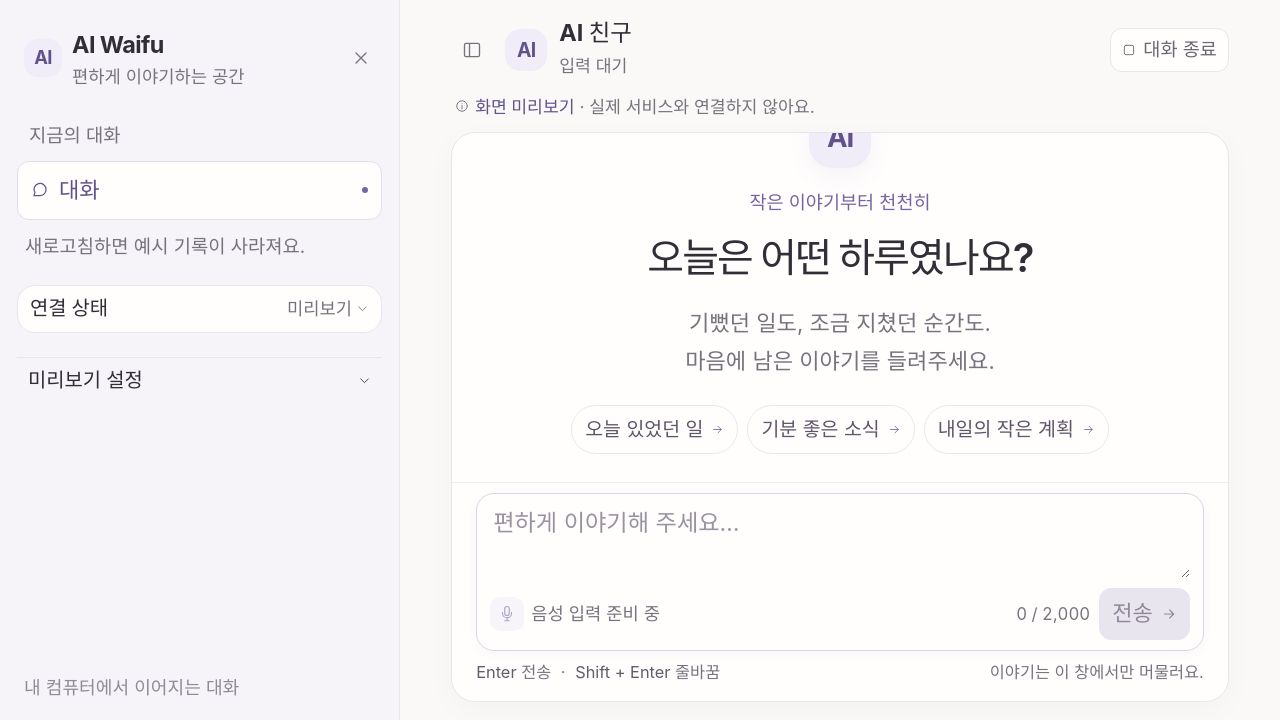
Test: single-session screen preview › allows the simulated speaking phase despite a VTS error
This screenshot has width=1280, height=720.
(page scrolled)
Click the heading "미리보기 설정" at (85, 380), box [28,368,371,392]
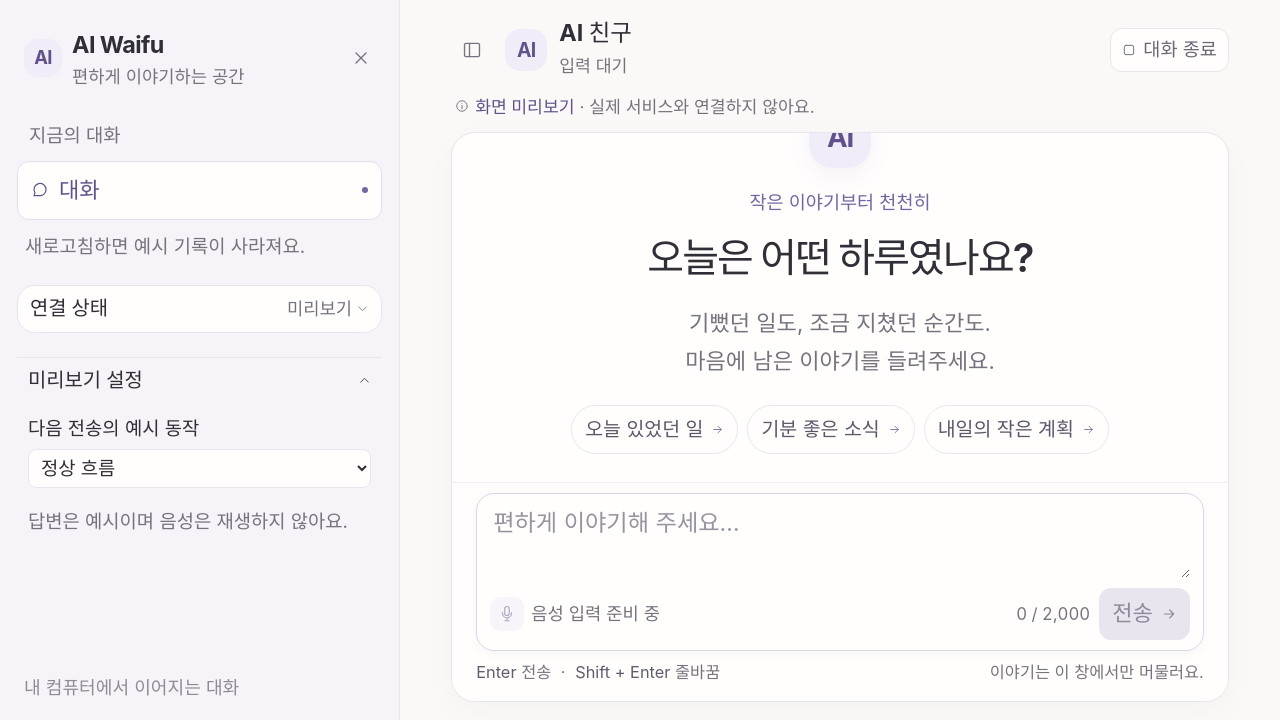
Select "캐릭터 연결 오류" in the dropdown labelled "다음 전송의 예시 동작" at (200, 468), box [28,449,371,488]
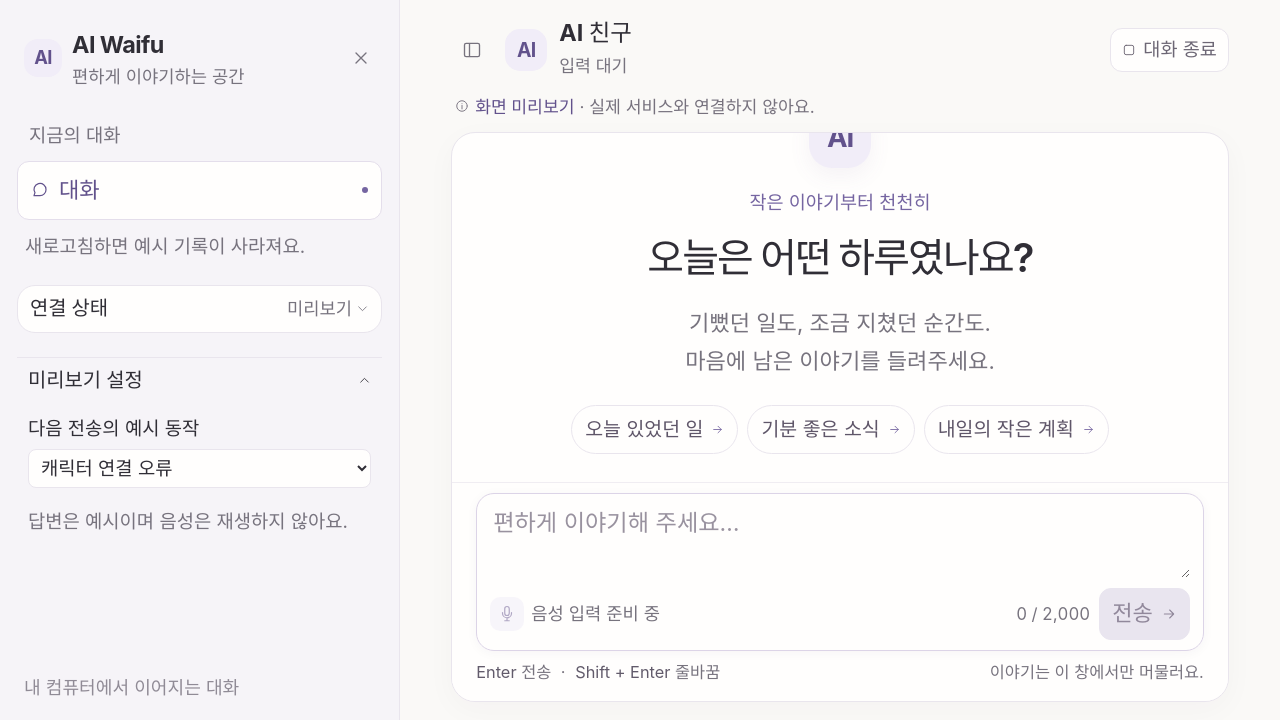
Type "오늘 학교에서 시험을 봤어." into the text box named "한국어 메시지" at (840, 542), box [490,506,1190,578]
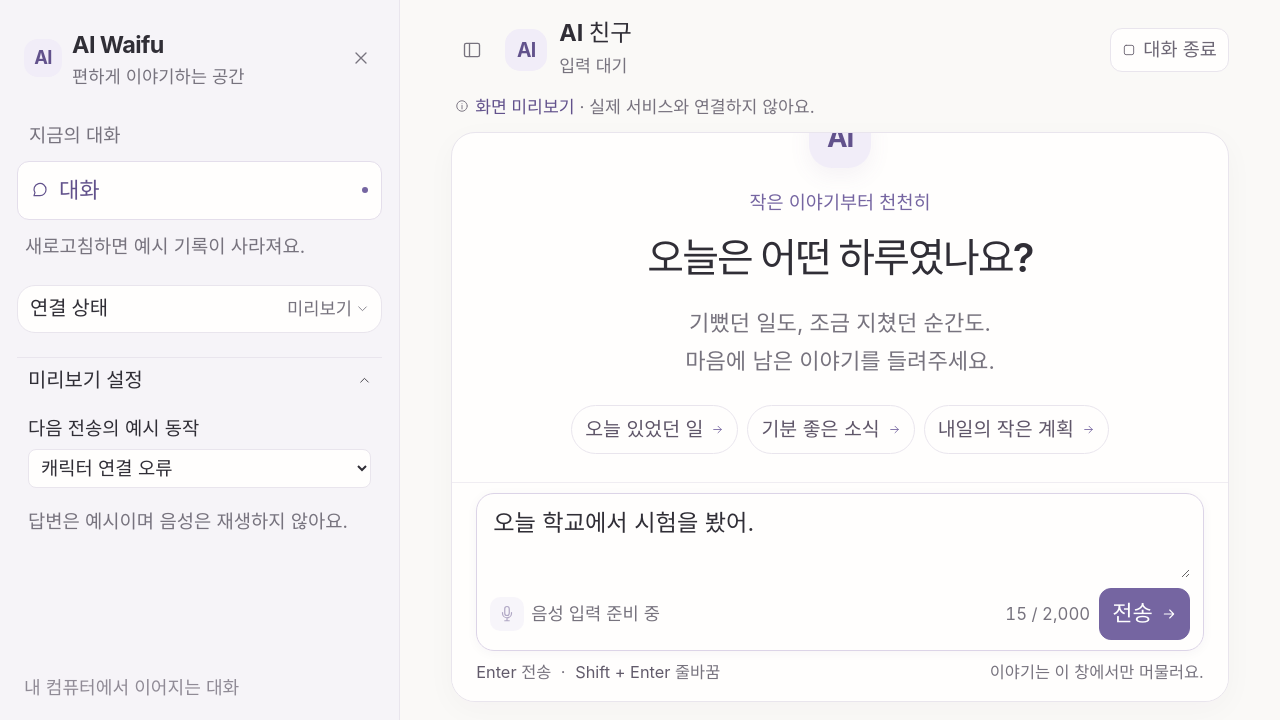
Click the button "전송" at (1145, 614), box [1099,588,1190,640]
Wait 2600 ms
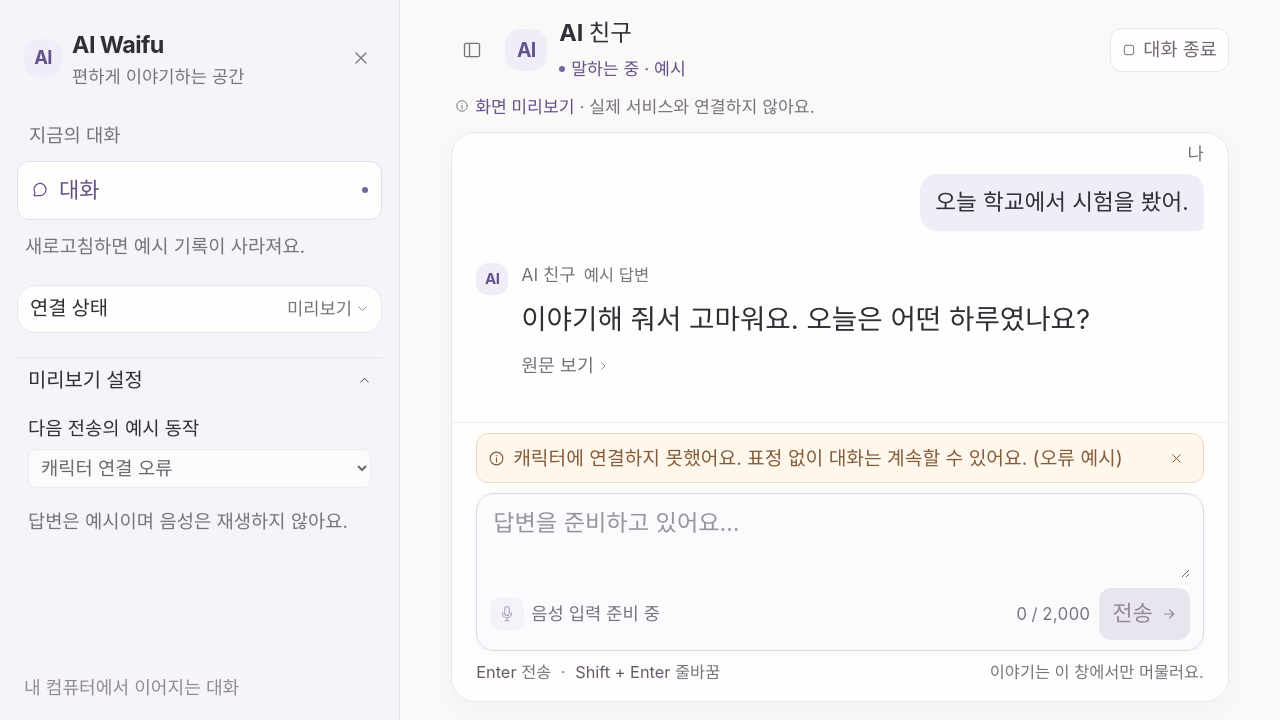
Now the message "캐릭터에 연결하지 못했어요. 표정 없이 대화는 계속할 수 있어요. (오류 예시)" is shown, box [476,433,1204,483]
Now the message "말하는 중 · 예시" is shown, box [559,58,686,80]
Click the button named "오류 안내 닫기" at (1177, 458), box [1162,443,1192,473]
Wait 4500 ms
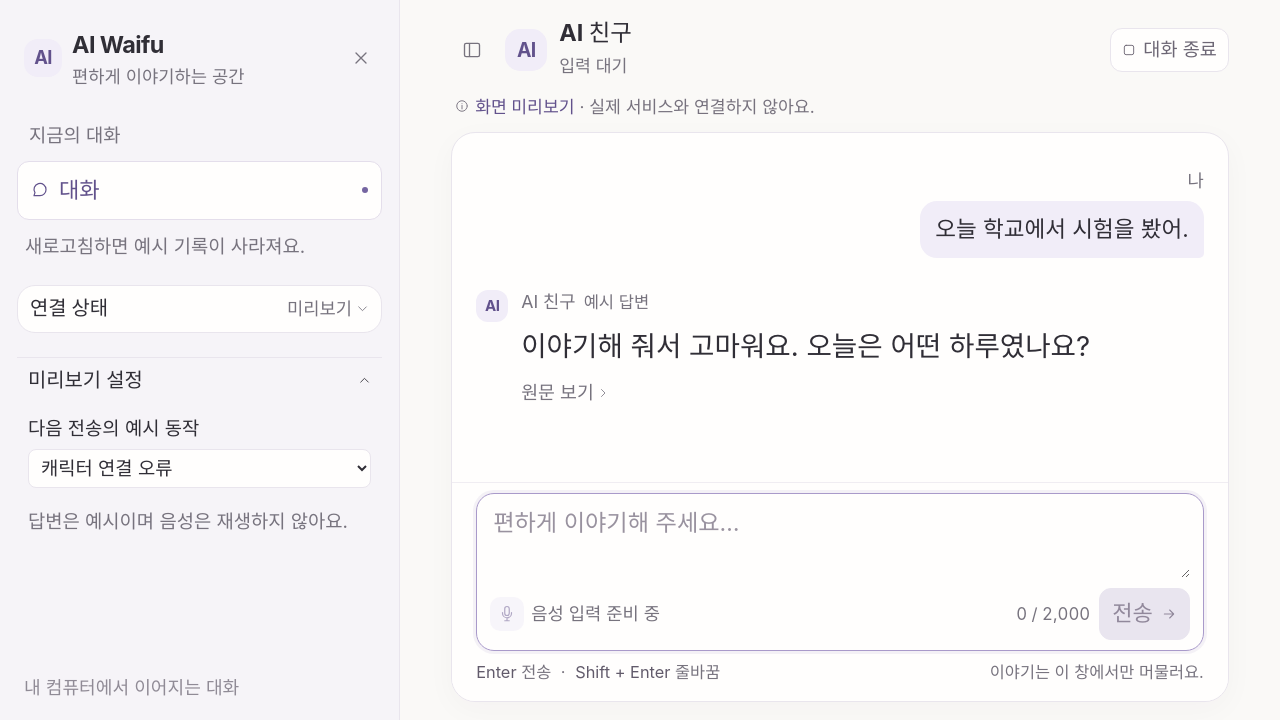
Now the message "캐릭터에 연결하지 못했어요. 표정 없이 대화는 계속할 수 있어요. (오류 예시)" is gone
Now the message reads "입력 대기", box [559,55,627,76]
